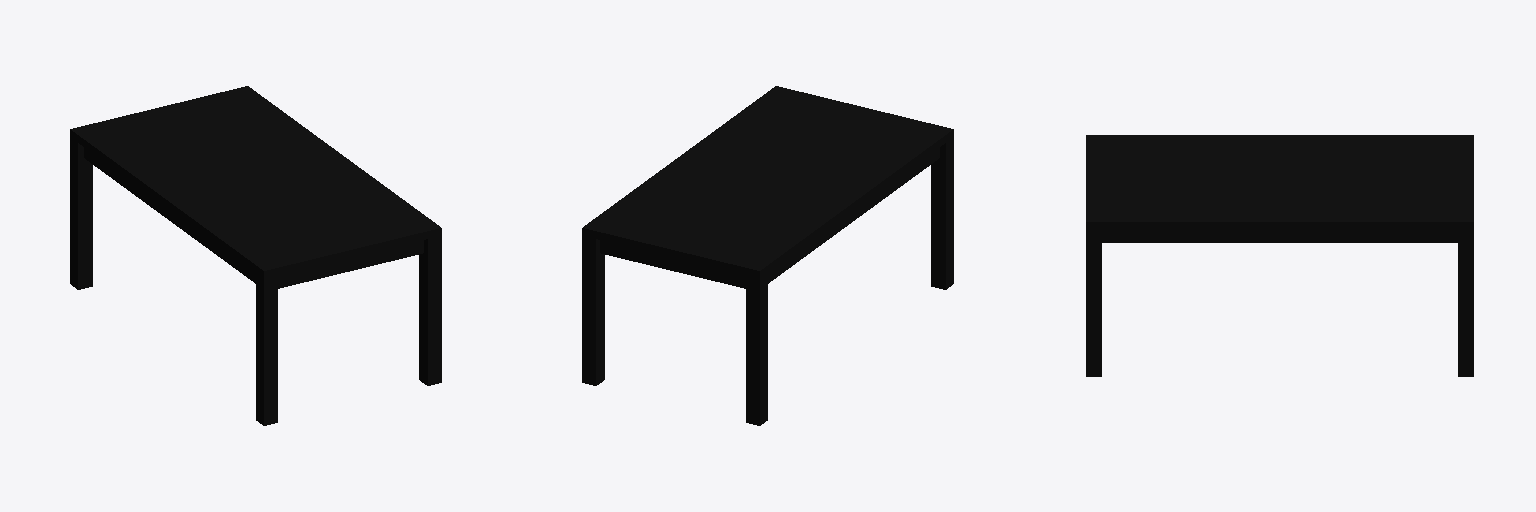
Rendered from table.obj.
3 views of the same model, side by side, from view 1: azimuth 30°, elevation 25°; view 2: azimuth 150°, elevation 25°; view 3: azimuth 270°, elevation 25° (orthographic).
Parts seen in each view (by area): view 1: table_Cube; view 2: table_Cube; view 3: table_Cube.
Boxes of the visible parts, <box> form: table_Cube: <box>70,86,441,425</box>; table_Cube: <box>582,86,953,425</box>; table_Cube: <box>1086,135,1473,376</box>.
Bounding box in the file's own units: 0.9 × 0.75 × 1.7.